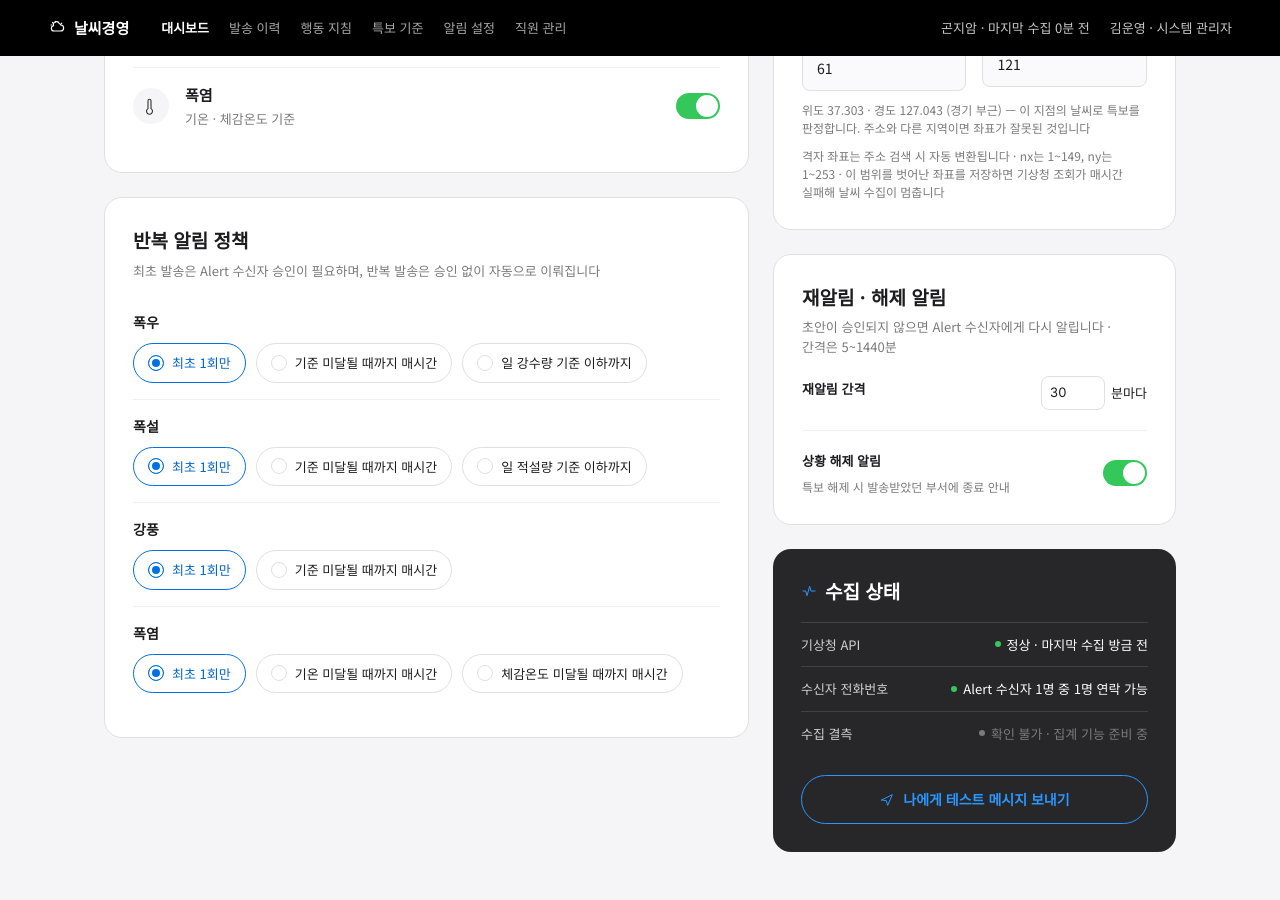
Settings 테스트 발송 › HTTP 오류에도 오류를 띄우고 버튼을 다시 쓸 수 있게 둔다
(page scrolled)
Step 1. Click the button "나에게 테스트 메시지 보내기" → [974, 800], box top-left (801, 775), bottom-right (1148, 824)
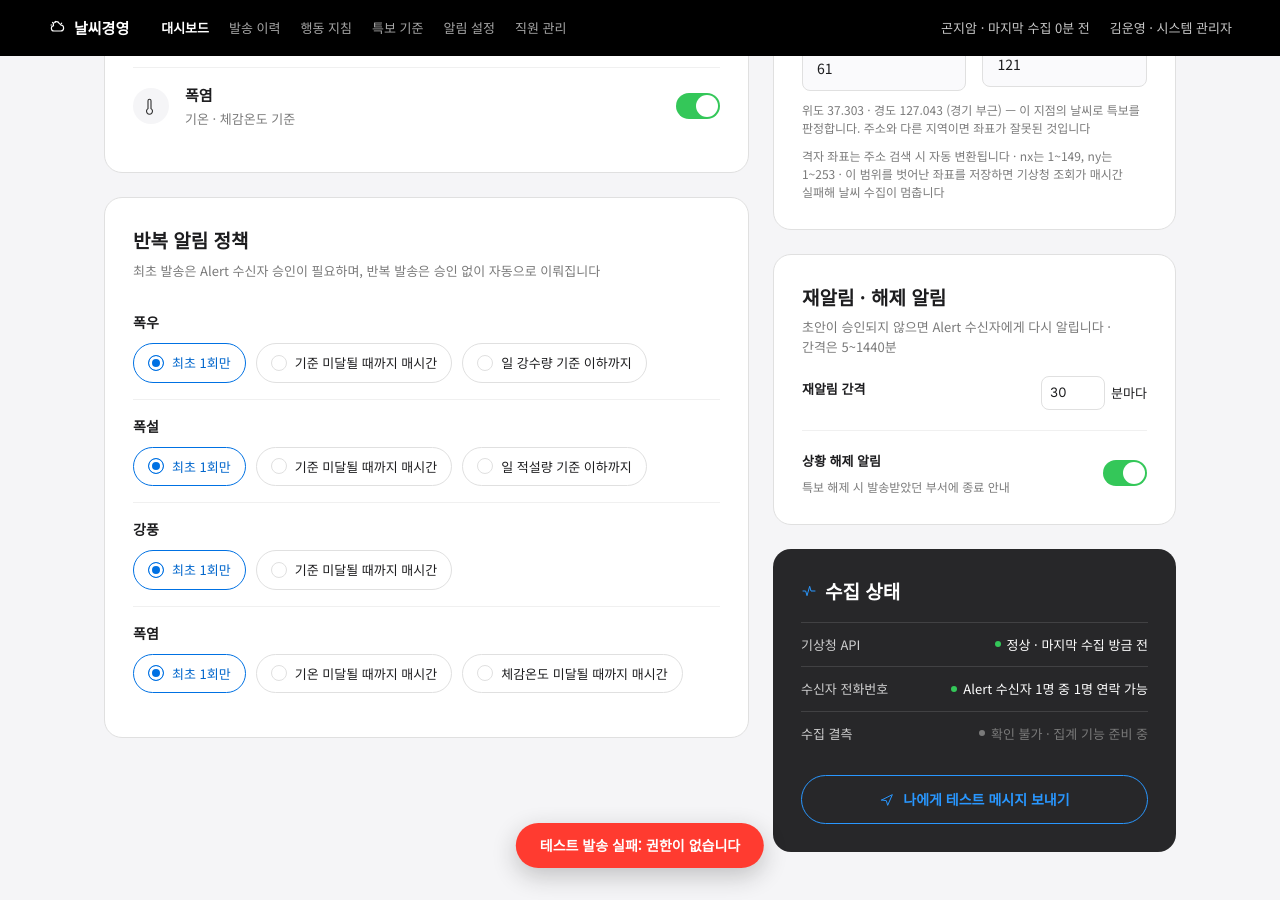
Check: the text "테스트 발송 실패: 권한이 없습니다" is shown, box top-left (516, 823), bottom-right (764, 868)
